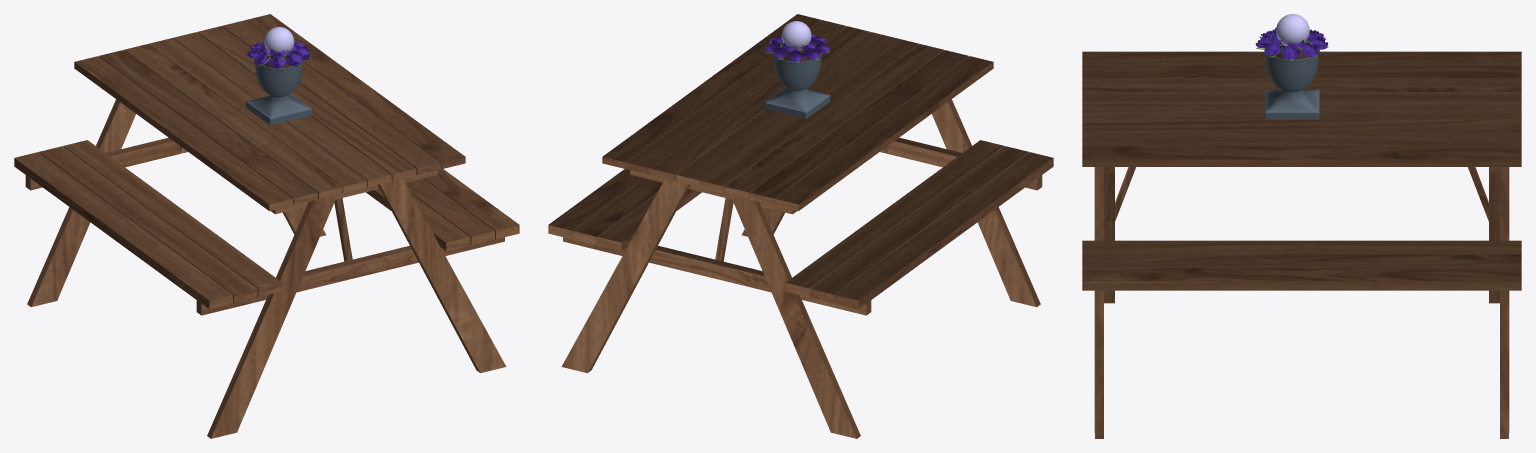
Rendered from mesa.obj.
3 views of the same model, side by side, from view 1: azimuth 30°, elevation 25°; view 2: azimuth 150°, elevation 25°; view 3: azimuth 270°, elevation 25° (orthographic). The views are drawn at different scales.
Visible parts, largest first — view 1: polySurface1, polySurface20, polySurface27, polySurface22, Cube, Sphere001, pCube15; view 2: polySurface1, polySurface20, polySurface27, polySurface22, Cube, Sphere001, pCube15; view 3: polySurface1, polySurface20, polySurface27, Cube, polySurface22, Sphere001, pCube15.
Boxes of the visible parts, bbox=[...] form: polySurface1: bbox=[74, 14, 465, 211]; polySurface20: bbox=[14, 140, 519, 309]; polySurface27: bbox=[27, 99, 506, 438]; polySurface22: bbox=[25, 137, 504, 315]; Cube: bbox=[246, 53, 311, 125]; Sphere001: bbox=[264, 27, 294, 56]; pCube15: bbox=[180, 146, 352, 261]; polySurface1: bbox=[602, 14, 993, 211]; polySurface20: bbox=[548, 140, 1053, 309]; polySurface27: bbox=[561, 99, 1040, 438]; polySurface22: bbox=[563, 137, 1042, 315]; Cube: bbox=[764, 44, 830, 118]; Sphere001: bbox=[781, 21, 811, 50]; pCube15: bbox=[715, 146, 887, 261]; polySurface1: bbox=[1082, 51, 1521, 166]; polySurface20: bbox=[1082, 240, 1521, 290]; polySurface27: bbox=[1094, 167, 1509, 438]; Cube: bbox=[1264, 42, 1319, 119]; polySurface22: bbox=[1104, 167, 1499, 303]; Sphere001: bbox=[1276, 14, 1309, 46]; pCube15: bbox=[1115, 167, 1488, 221].
Size of the model in its own units: 5.13 by 4.87 by 5.59.
